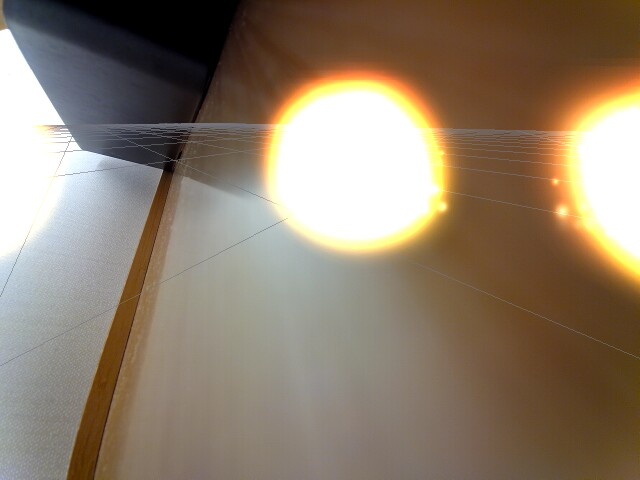firebig: (246, 70, 469, 262)
